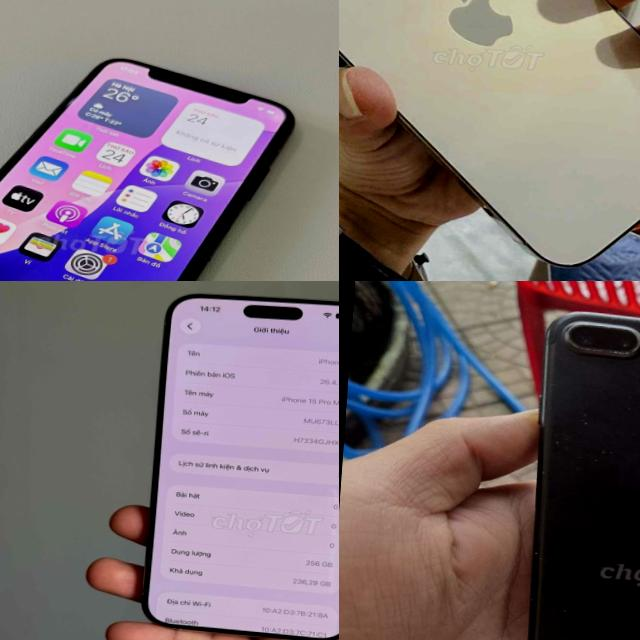gen_14: (339, 0, 640, 280)
gen_15: (135, 281, 339, 640)
gen_7_8: (507, 299, 640, 640)
gen_x_xs: (0, 58, 293, 281)
scratch: (559, 314, 640, 359), (564, 407, 622, 467), (619, 387, 639, 413), (536, 458, 548, 478), (536, 390, 548, 406), (554, 606, 568, 617), (530, 547, 540, 557), (548, 434, 560, 442)
